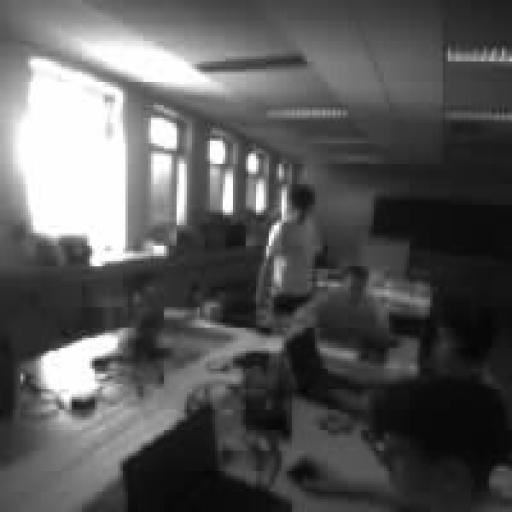human: (300, 377, 509, 511), (295, 264, 396, 360), (256, 185, 319, 317), (423, 297, 496, 378)
